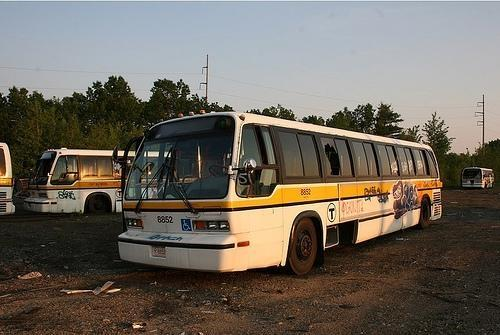bus: (116, 110, 442, 272), (22, 148, 124, 214), (0, 142, 14, 216), (462, 167, 495, 190)
